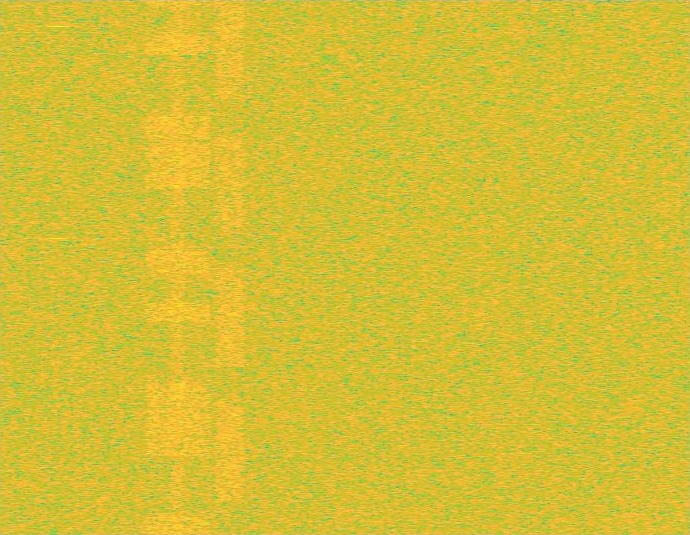5G: (213, 0, 247, 534)
DSSS: (170, 0, 185, 534)
LTE: (143, 0, 212, 534)
Radar: (51, 0, 65, 534)
